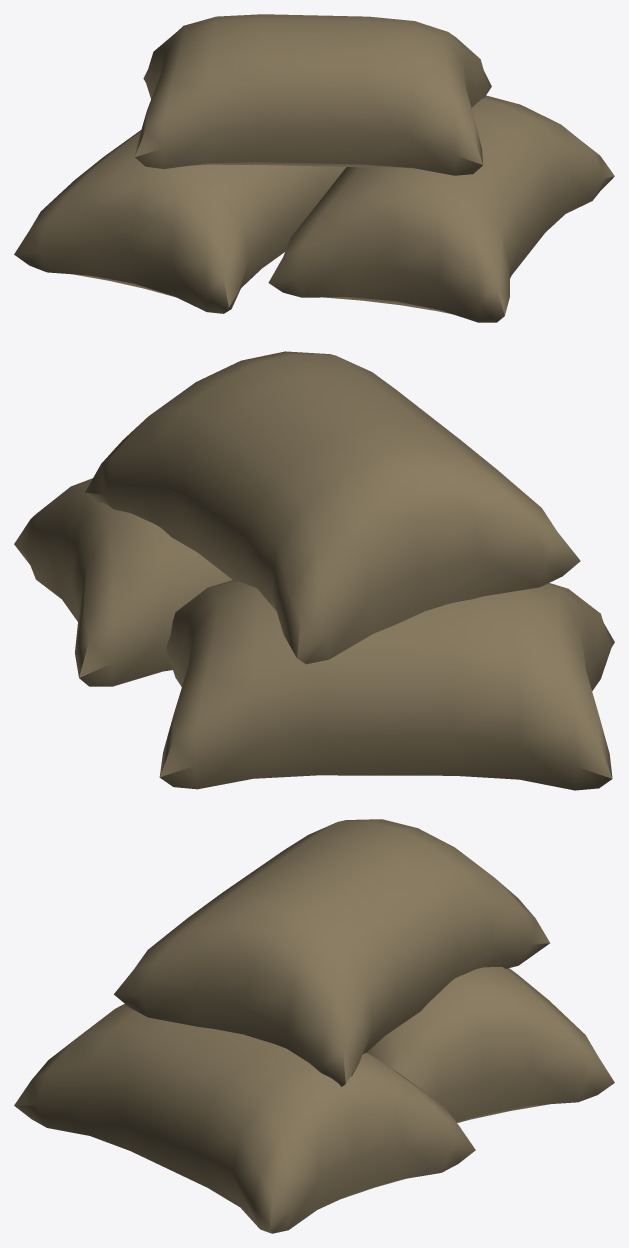
The model's file is quaternius-medieval-village-bags.glb.
The picture shows the model from 3 angles, top to bottom: view 1: azimuth 30°, elevation 25°; view 2: azimuth 150°, elevation 25°; view 3: azimuth 270°, elevation 25°; orthographic projection. The views are drawn at different scales.
Parts seen in each view (by area): view 1: Bags; view 2: Bags; view 3: Bags.
Boxes of the visible parts, bbox=[...] form: Bags: bbox=[14, 14, 614, 322]; Bags: bbox=[14, 351, 614, 790]; Bags: bbox=[14, 819, 614, 1233].
Size of the model in its own units: 0.2697 by 0.1071 by 0.2392.
